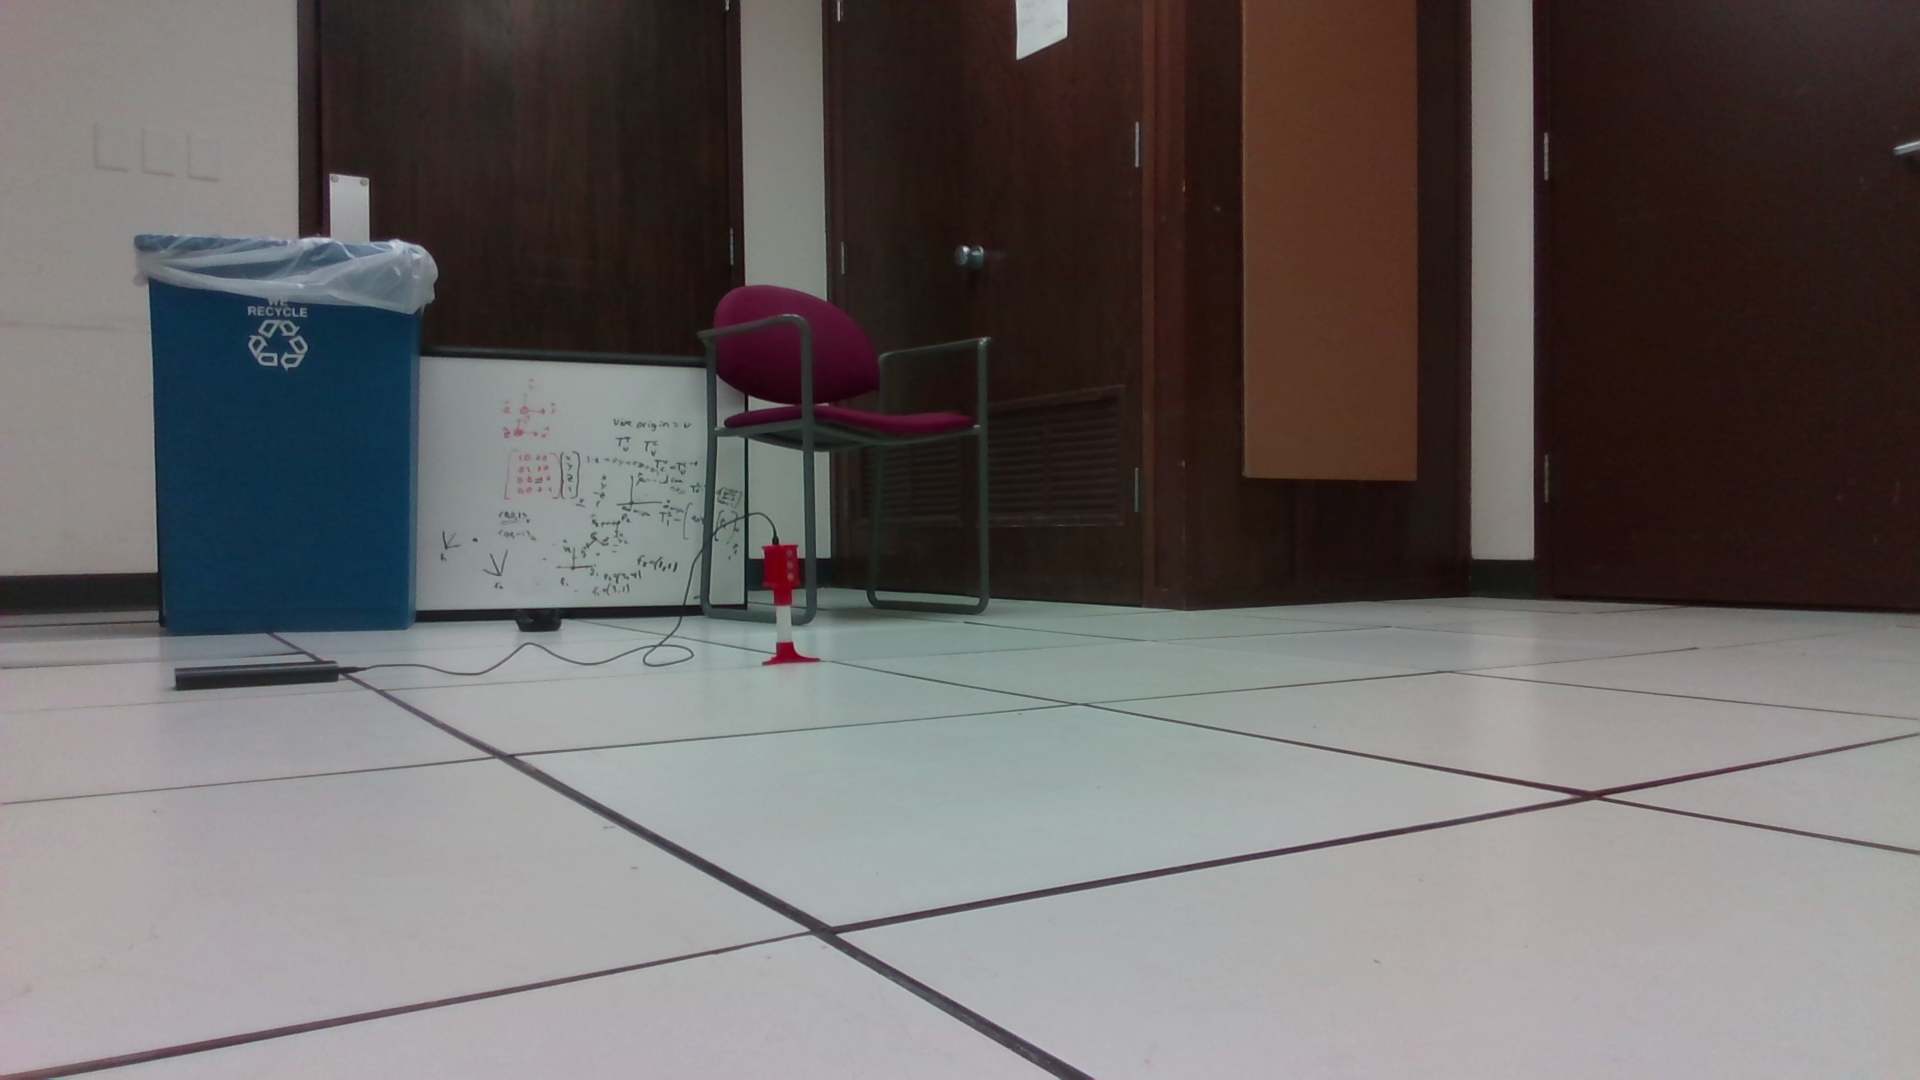stoplight: (764, 542, 800, 607)
